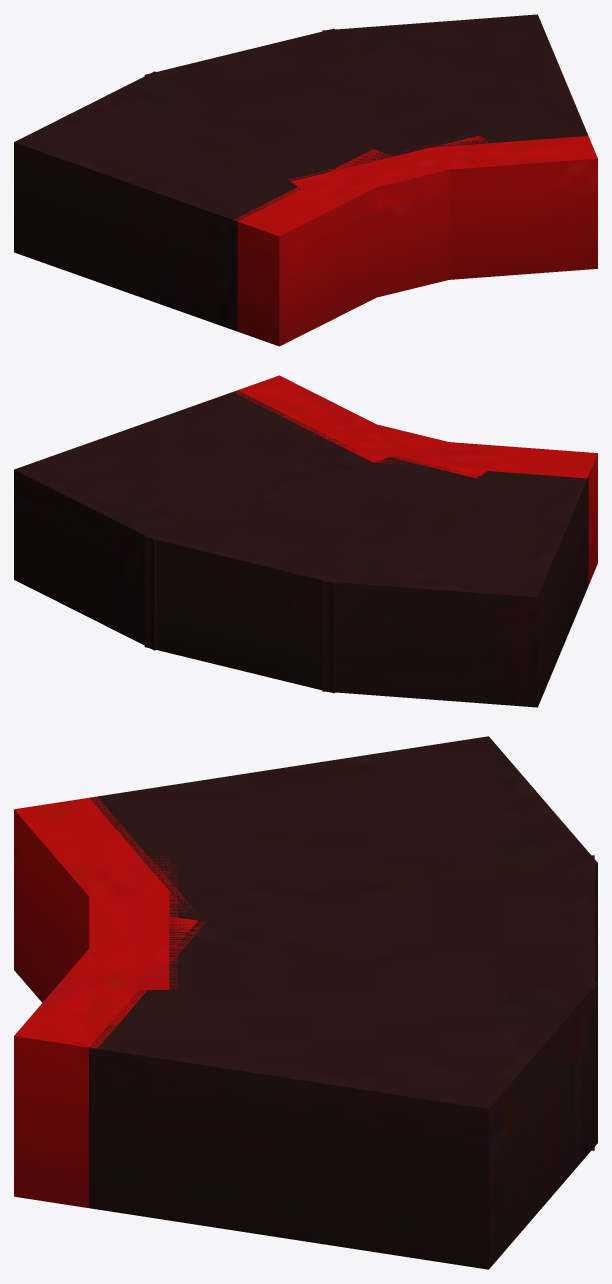
File: piercing-rounds-magazine.glb
3 renders of one model, top to bottom at view 1: azimuth 30°, elevation 25°; view 2: azimuth 150°, elevation 25°; view 3: azimuth 270°, elevation 25°, orthographic. The views are drawn at different scales.
Visible parts, largest first — view 1: piercing-rounds-magazine; view 2: piercing-rounds-magazine; view 3: piercing-rounds-magazine.
Part boxes in pixels (<box>): piercing-rounds-magazine: <box>14,14,597,346</box>; piercing-rounds-magazine: <box>14,375,597,707</box>; piercing-rounds-magazine: <box>14,736,597,1269</box>.
Bounding box in the file's own units: 0.2487 × 0.05 × 0.1647.
1 material, 1 textured.
